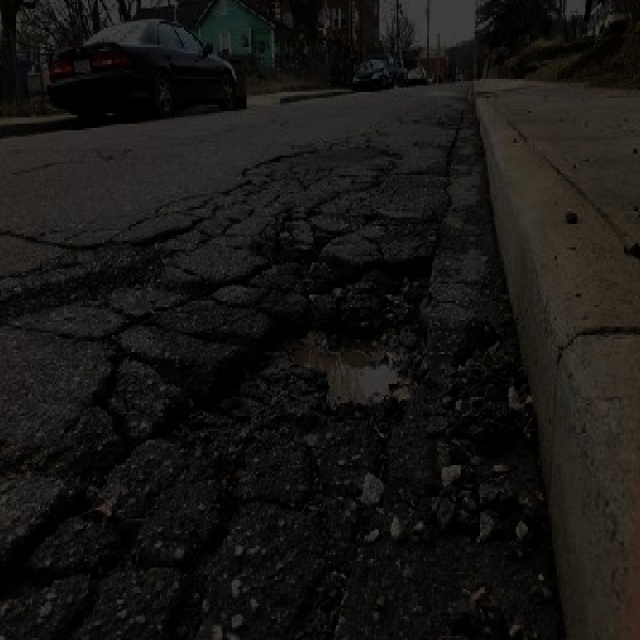Pothole: (152, 250, 437, 454)
